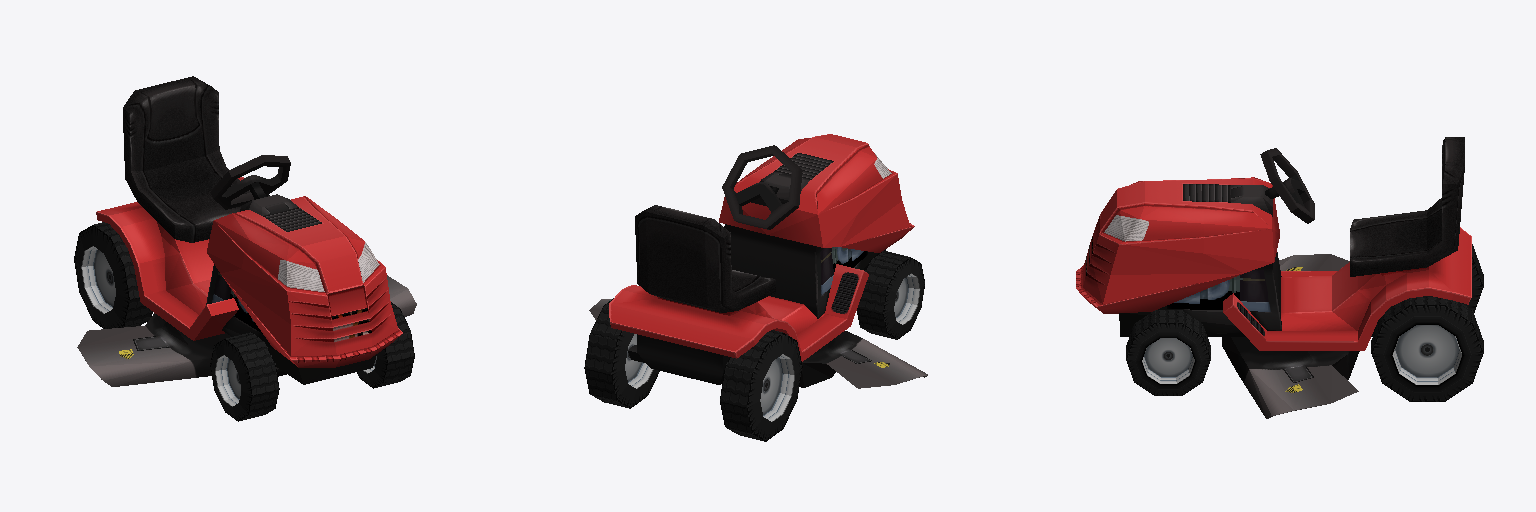
3 views of the same model, side by side, from view 1: azimuth 30°, elevation 25°; view 2: azimuth 150°, elevation 25°; view 3: azimuth 270°, elevation 25° (orthographic).
Parts seen in each view (by area): view 1: Mower_body, Wheel_BR, Wheel_FR, Wheel_FL; view 2: Mower_body, Wheel_BR, Wheel_FR, Wheel_BL; view 3: Mower_body, Wheel_BL, Wheel_FL, Wheel_BR.
Boxes of the visible parts, <box> form: Mower_body: <box>77,76,416,386</box>; Wheel_BR: <box>74,222,152,328</box>; Wheel_FR: <box>210,332,279,421</box>; Wheel_FL: <box>357,302,414,388</box>; Mower_body: <box>589,134,927,388</box>; Wheel_BR: <box>720,330,802,441</box>; Wheel_FR: <box>857,251,924,339</box>; Wheel_BL: <box>584,298,659,408</box>; Mower_body: <box>1076,137,1471,418</box>; Wheel_BL: <box>1371,296,1483,401</box>; Wheel_FL: <box>1126,310,1210,395</box>; Wheel_BR: <box>1462,244,1483,312</box>.
Bounding box in the file's own units: 1.84 × 1.17 × 2.03.
1 materials, 1 textured.